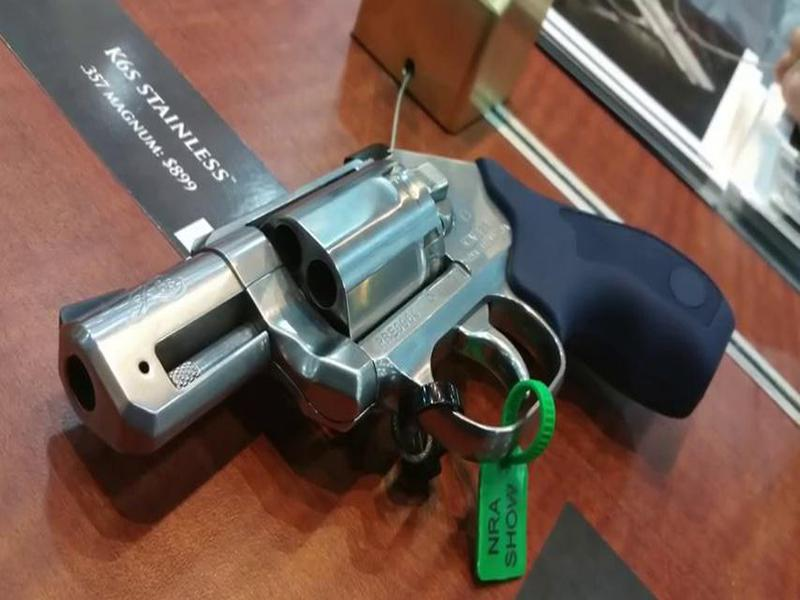Revolver: (57, 136, 758, 485)
